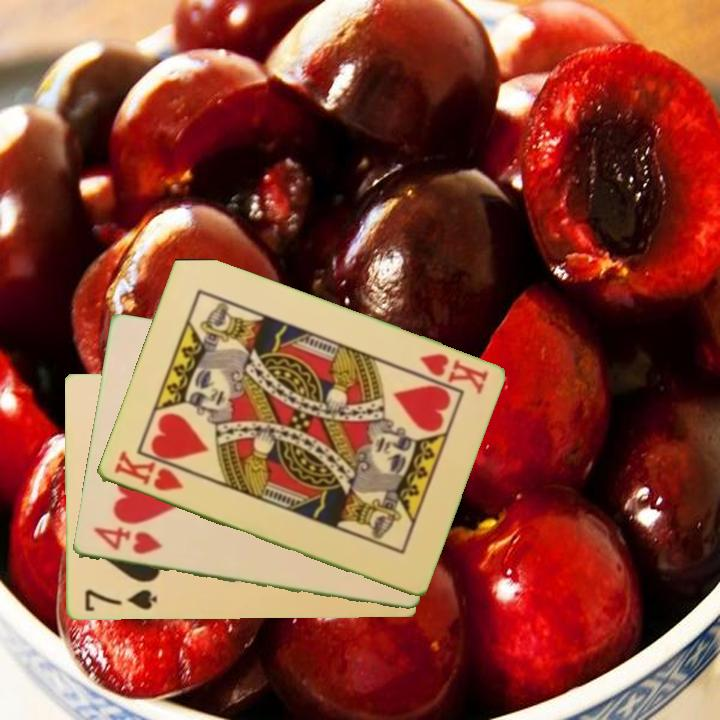4h: (89, 524, 165, 558)
7s: (81, 586, 159, 615)
Kh: (110, 448, 186, 495), (415, 350, 491, 397)
